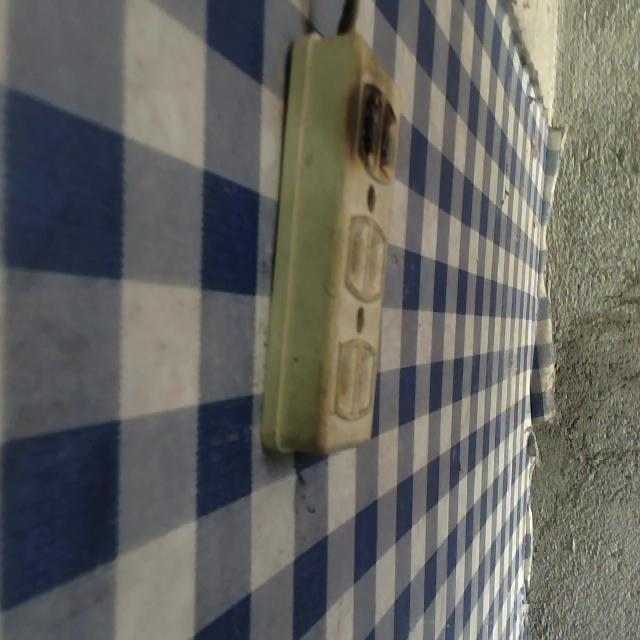-: (333, 63, 407, 189)
